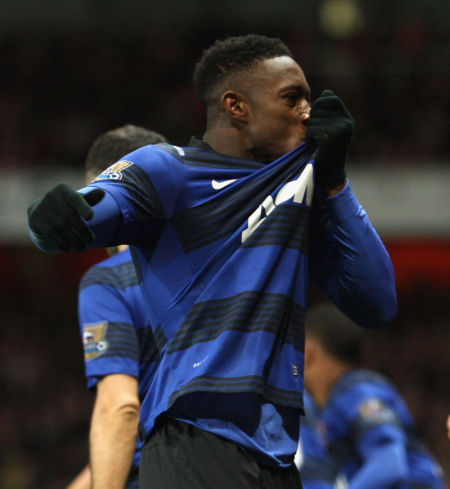face: (246, 57, 313, 154)
